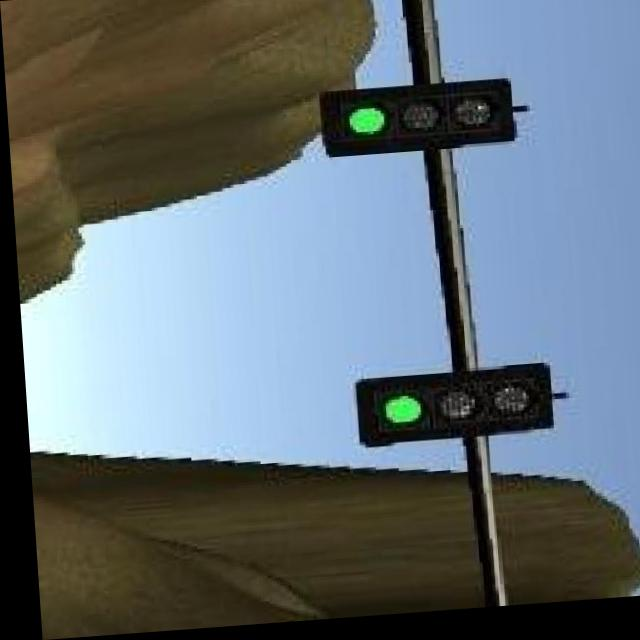green light: (346, 371, 550, 449), (317, 84, 517, 159)
